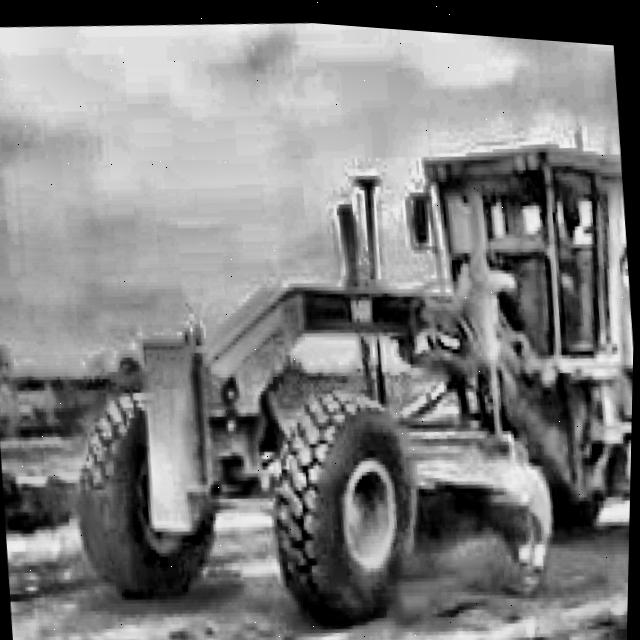buldozerpayloadergrader: (52, 108, 638, 636)
